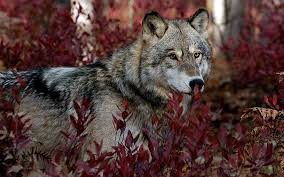Lobo: (24, 2, 211, 177)
